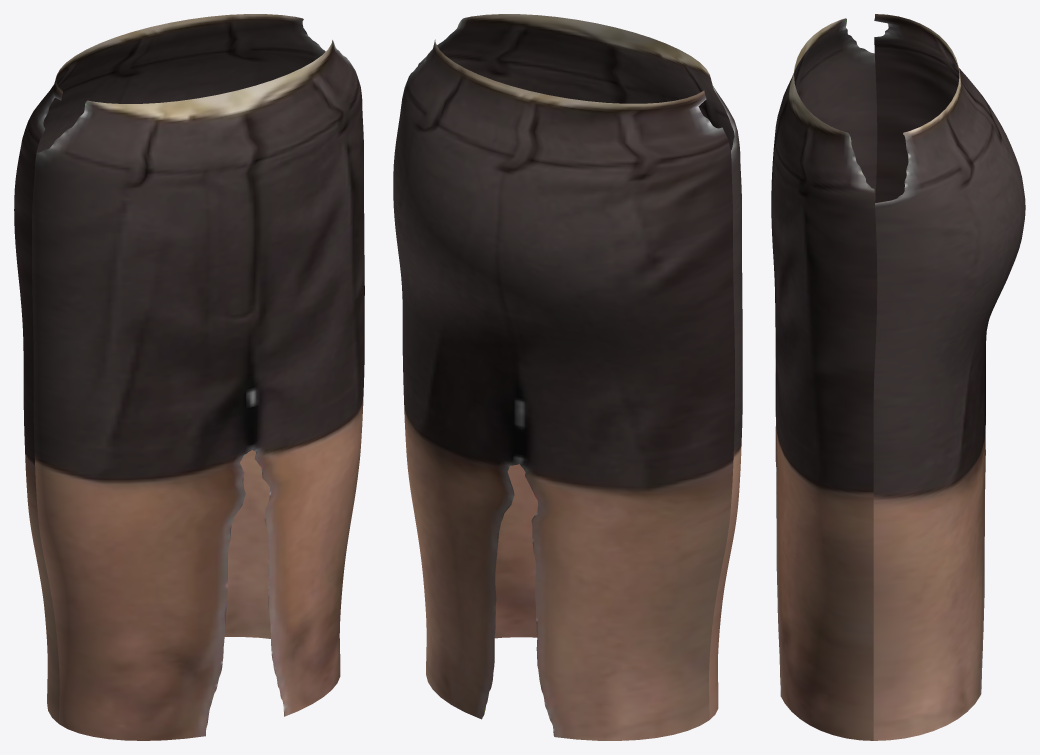
Rendered from prod-ae-espresso-tailored-shorts.glb.
3 renders of one model, left to right at view 1: azimuth 30°, elevation 25°; view 2: azimuth 150°, elevation 25°; view 3: azimuth 270°, elevation 25°, orthographic. The views are drawn at different scales.
Parts seen in each view (by area): view 1: prod-ae-espresso-tailored-shorts; view 2: prod-ae-espresso-tailored-shorts; view 3: prod-ae-espresso-tailored-shorts.
Boxes of the visible parts, box(x1,y1,x2,y2) form: prod-ae-espresso-tailored-shorts: box(14, 14, 364, 740); prod-ae-espresso-tailored-shorts: box(393, 14, 742, 740); prod-ae-espresso-tailored-shorts: box(771, 14, 1025, 740).
Size of the model in its own units: 0.2918 by 0.5443 by 0.2083.
Materials: 1 (1 with a texture image).
